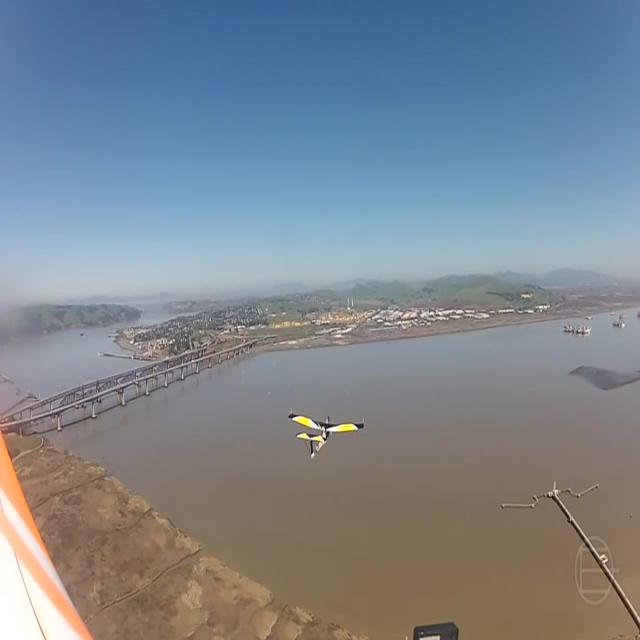iha: (313, 411, 327, 460)
